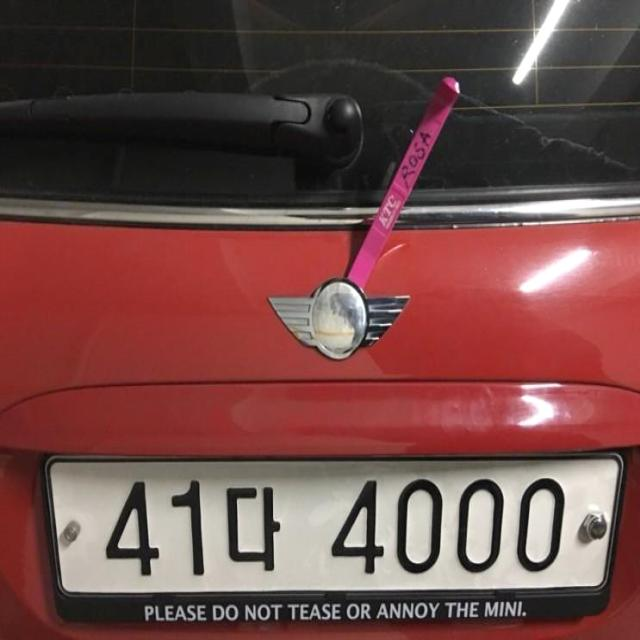illegal_plate: (45, 452, 616, 636)
